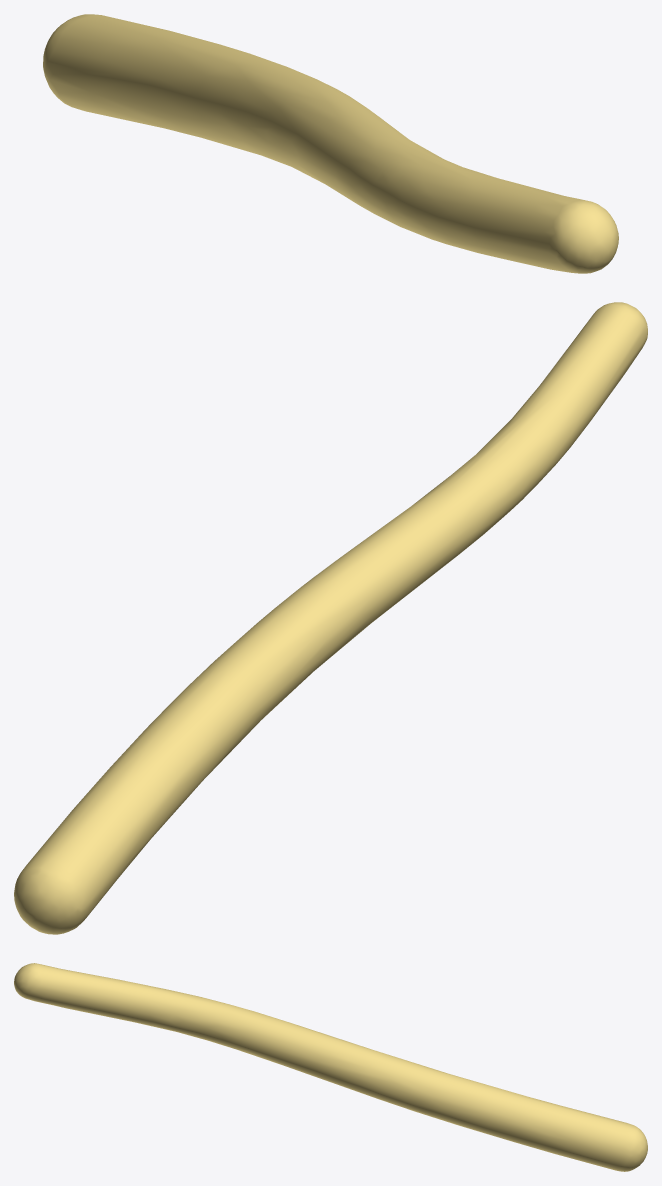
Rendered from fma52622_fj1363.glb.
The picture shows the model from 3 angles, top to bottom: view 1: azimuth 30°, elevation 25°; view 2: azimuth 150°, elevation 25°; view 3: azimuth 270°, elevation 25°; orthographic projection. The views are drawn at different scales.
Parts seen in each view (by area): view 1: FMA52622_FJ1363; view 2: FMA52622_FJ1363; view 3: FMA52622_FJ1363.
Boxes of the visible parts, x1,y1,x2,y2 form: FMA52622_FJ1363: [43, 14, 618, 273]; FMA52622_FJ1363: [14, 302, 647, 934]; FMA52622_FJ1363: [14, 963, 647, 1171].
Bounding box in the file's own units: 0.00463 × 0.00856 × 0.0273.
